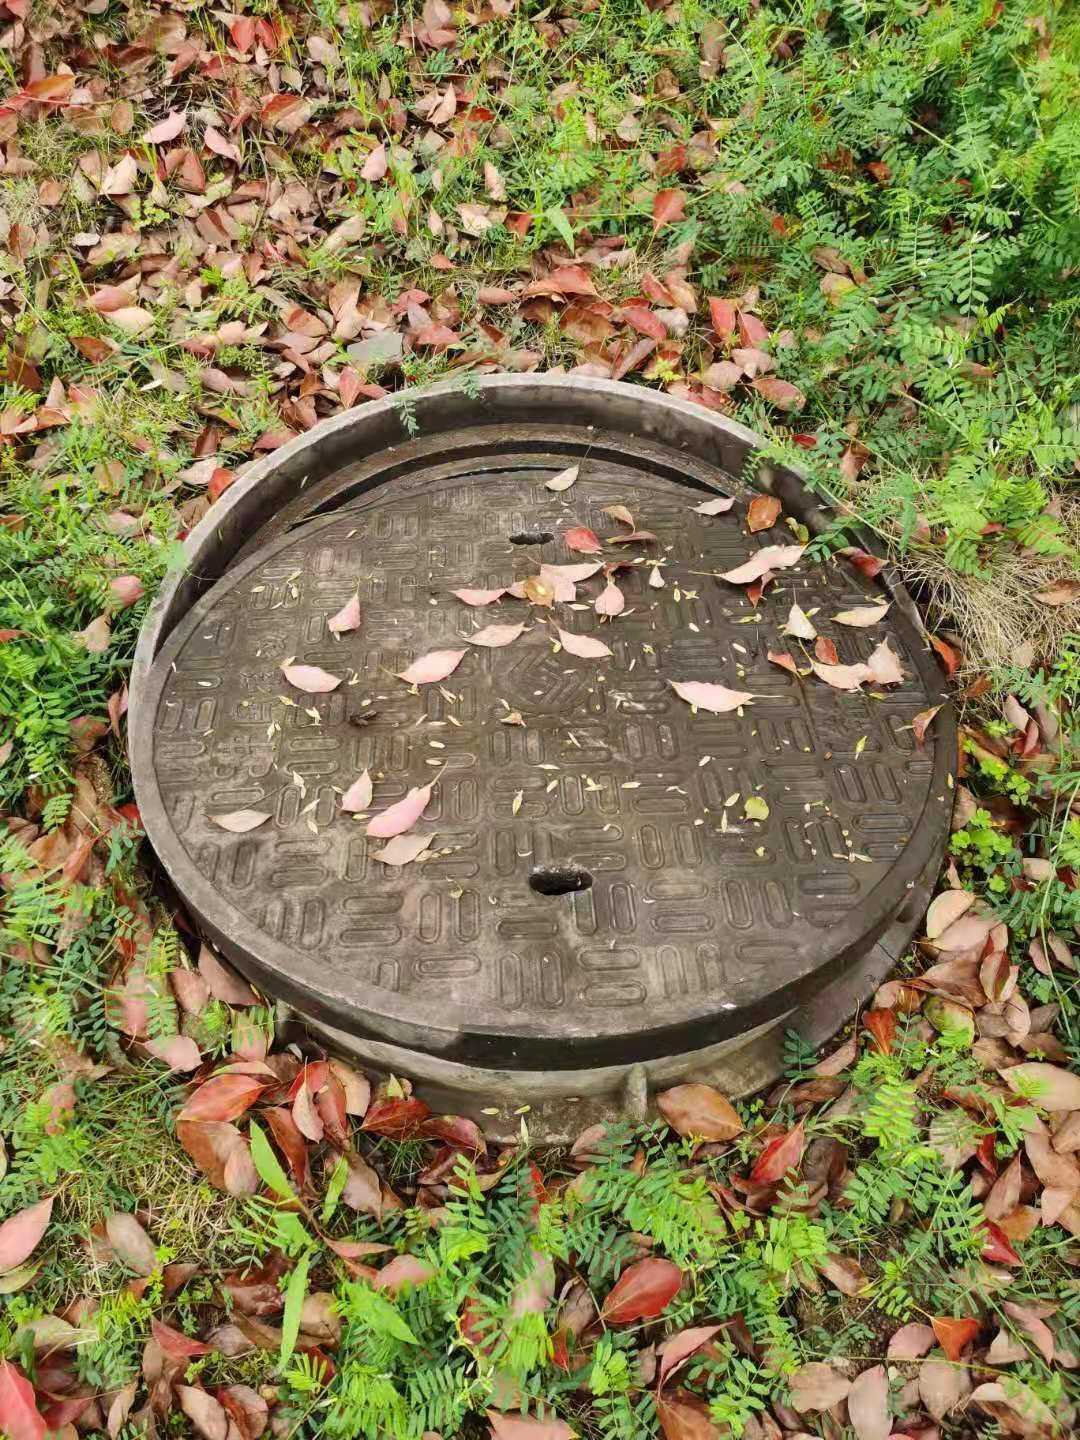uncovered: (125, 370, 963, 1113)
